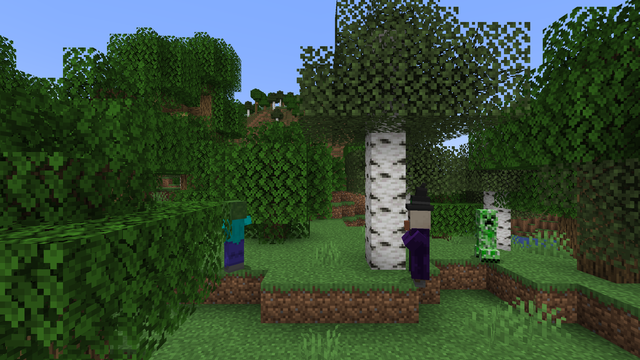creepers: (471, 206, 500, 261)
sorcieres: (403, 205, 435, 288)
zombies: (222, 202, 247, 273)
